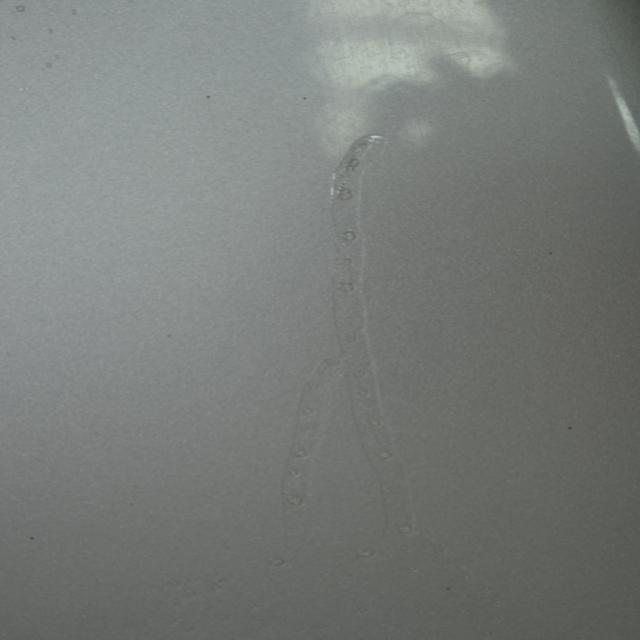dirt: (301, 95, 308, 101), (206, 95, 212, 98)
runs: (274, 134, 417, 562), (0, 4, 83, 94)
